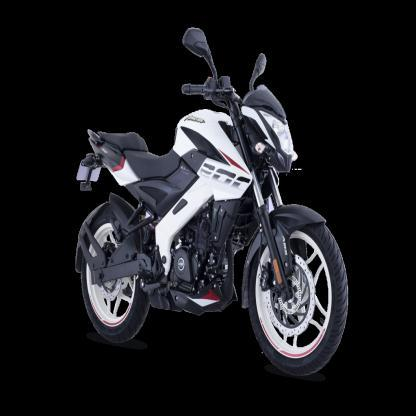Motorcycle: (70, 26, 354, 384)
